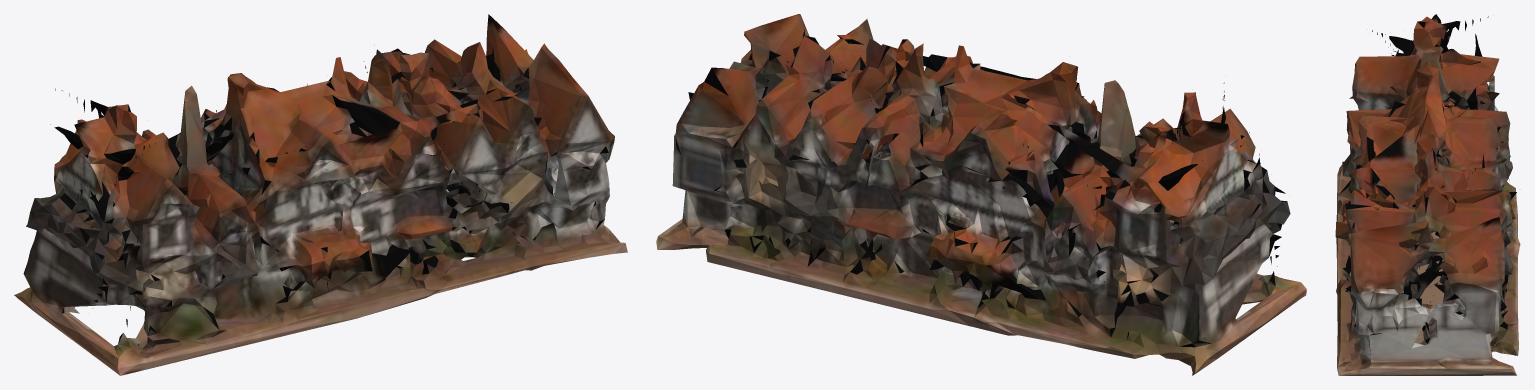
The model's file is village_block_b_lod0.glb.
3 renders of one model, left to right at view 1: azimuth 30°, elevation 25°; view 2: azimuth 150°, elevation 25°; view 3: azimuth 270°, elevation 25°, orthographic. The views are drawn at different scales.
Visible parts, largest first — view 1: village_block_b_lod0; view 2: village_block_b_lod0; view 3: village_block_b_lod0.
Boxes of the visible parts, box(x1,y1,x2,y2) form: village_block_b_lod0: box(14, 14, 627, 375); village_block_b_lod0: box(656, 14, 1306, 375); village_block_b_lod0: box(1335, 14, 1520, 375).
Bounding box in the file's own units: 20.29 × 8.49 × 7.79.
Materials: 1 (1 with a texture image).
